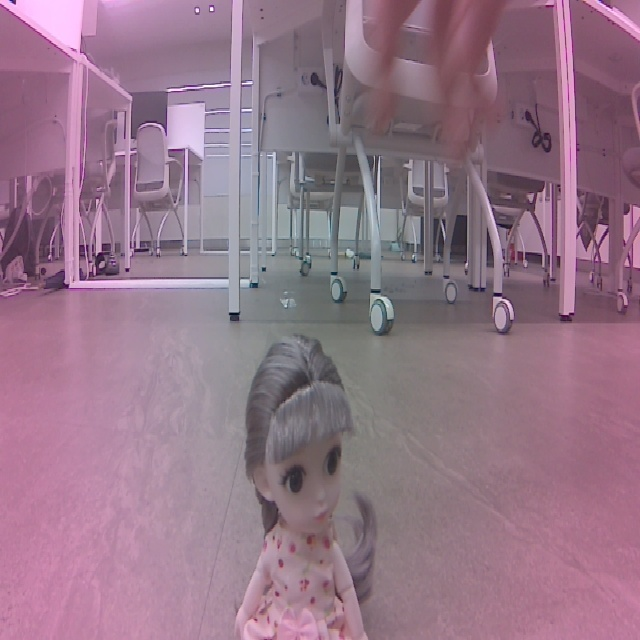장애물: (227, 330, 381, 640)
